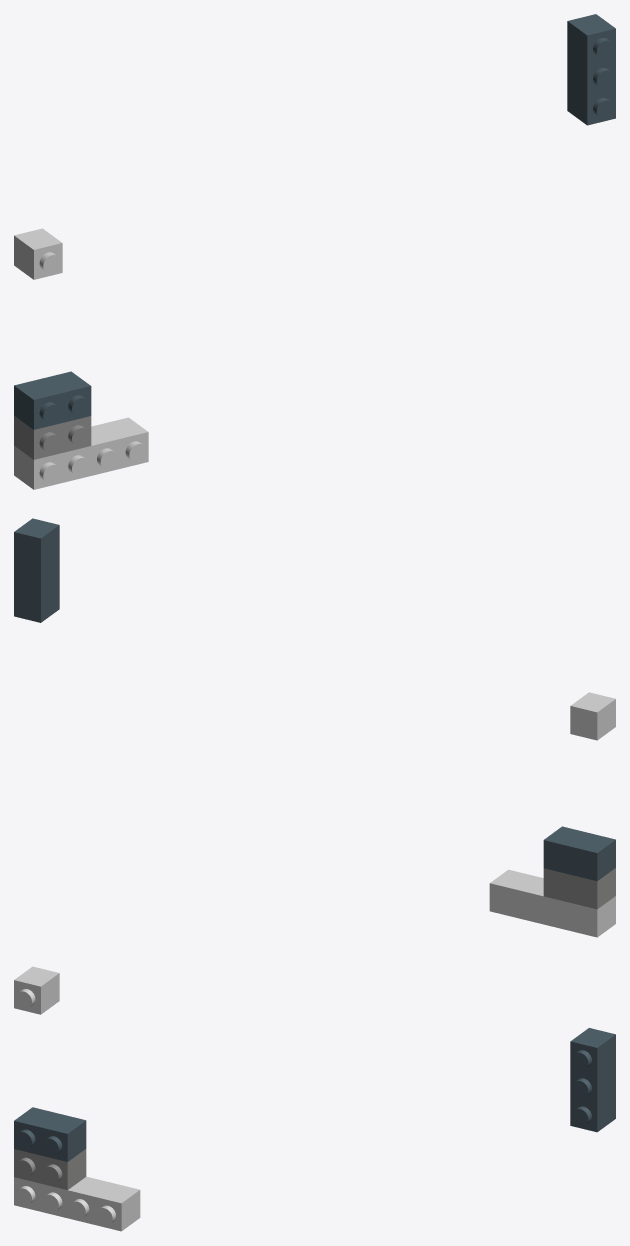
File: current.glb
3 views of the same model, one above another, from view 1: azimuth 30°, elevation 25°; view 2: azimuth 150°, elevation 25°; view 3: azimuth 330°, elevation 25° (orthographic). The views are drawn at different scales.
Visible parts, largest first — view 1: world; view 2: world; view 3: world.
Boxes of the visible parts, x1,y1,x2,y2 form: world: [14, 14, 615, 489]; world: [14, 518, 615, 937]; world: [14, 966, 615, 1231].
Bounding box in the file's own units: 168 × 80 × 21.
